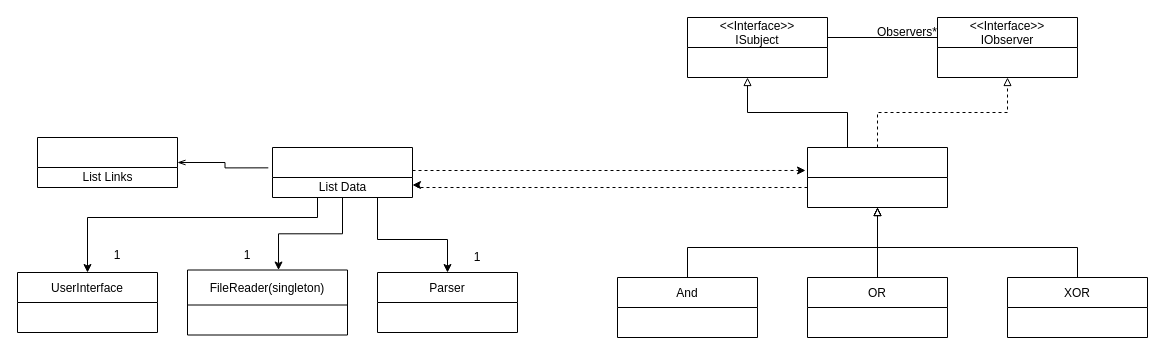
Some shapes in this 1165 by 355 pixel diagram are drawn without their labels. The shapes that lost their labels are listed below. From the top down, each one's box as (x1, y1, x2, y2) in pixels, then its label:
(36, 136, 178, 188): Data
(272, 146, 412, 198): Ciruit(Factorymethod)
(806, 146, 948, 208): Component
